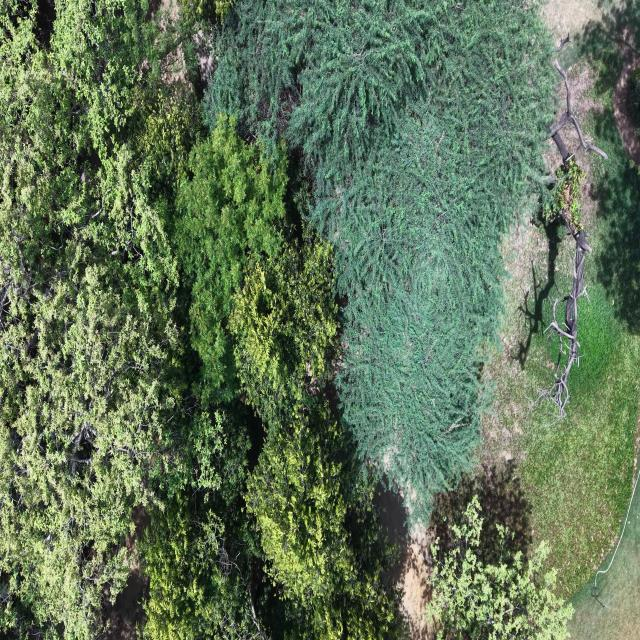DRY_AREA: (481, 219, 572, 466), (567, 484, 639, 639), (486, 219, 554, 383), (374, 486, 432, 639), (570, 517, 639, 639), (99, 505, 148, 639), (541, 0, 611, 45), (612, 54, 639, 165)
VEGETATION_TREE: (0, 0, 555, 639), (0, 1, 401, 639), (205, 1, 552, 521), (143, 119, 402, 637), (144, 118, 402, 637), (0, 1, 194, 639), (495, 2, 639, 597), (229, 224, 403, 637), (518, 11, 639, 596), (142, 395, 403, 639), (176, 117, 337, 404), (245, 395, 402, 637), (518, 285, 639, 596), (175, 117, 286, 397), (138, 400, 263, 639), (532, 58, 607, 417), (228, 224, 338, 427), (246, 397, 354, 601), (426, 495, 571, 639), (229, 226, 337, 417), (141, 478, 265, 639), (531, 132, 591, 417), (289, 491, 404, 639), (567, 470, 639, 639), (595, 108, 639, 334), (544, 158, 584, 226), (626, 68, 640, 164)
